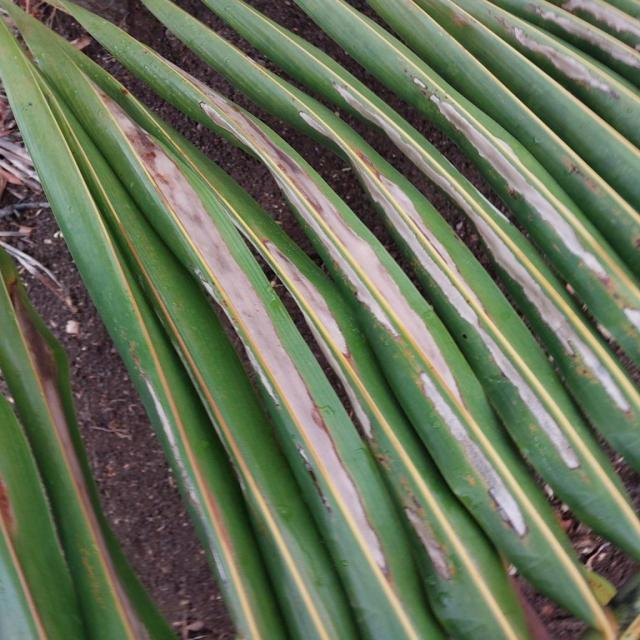gray leaf spot: (50, 62, 625, 574), (510, 0, 640, 95)
